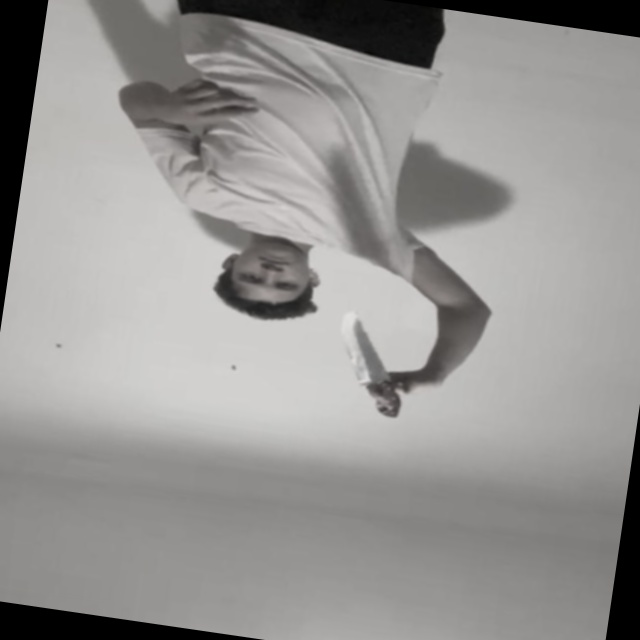Sharp-Object: (333, 314, 393, 388)
